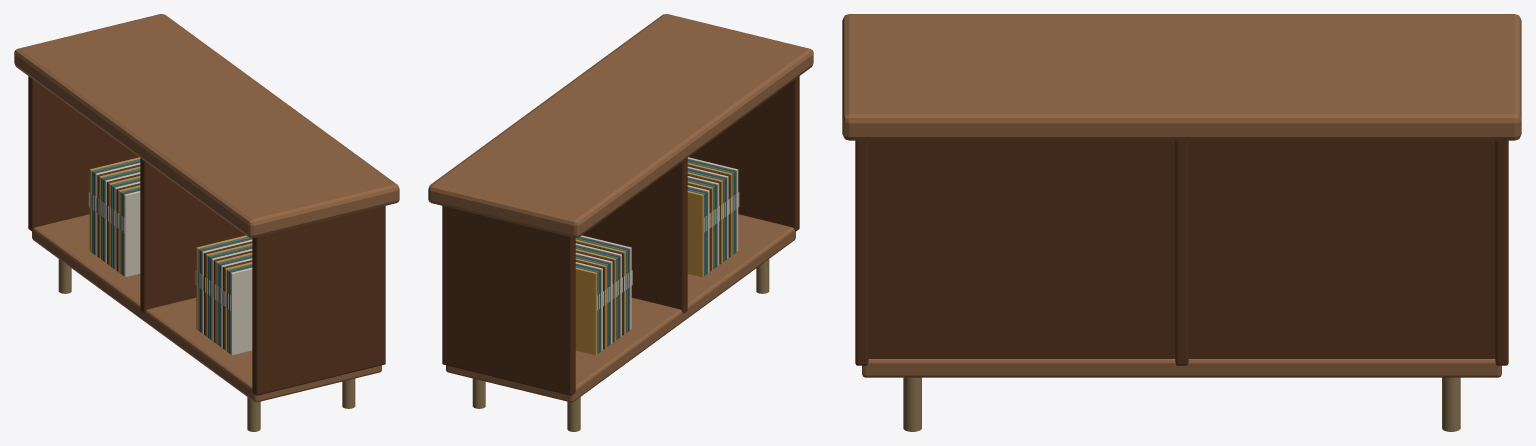
Rendered from vinyl-console.glb.
The picture shows the model from 3 angles, left to right: view 1: azimuth 30°, elevation 25°; view 2: azimuth 150°, elevation 25°; view 3: azimuth 270°, elevation 25°; orthographic projection. The views are drawn at different scales.
Visible parts, largest first — view 1: part::vinyl-console/floating-walnut-counter-001, part::vinyl-console/open-cabinet-divider-003, part::vinyl-console/lower-record-shelf-001, part::vinyl-console/open-cabinet-divider-001, part::vinyl-console/open-cabinet-divider-002, part::vinyl-console/individual-record-sleeve-038, part::vinyl-console/individual-record-sleeve-019, part::vinyl-console/console-brass-foot-004, part::vinyl-console/console-brass-foot-002, part::vinyl-console/console-brass-foot-003; view 2: part::vinyl-console/floating-walnut-counter-001, part::vinyl-console/open-cabinet-divider-001, part::vinyl-console/lower-record-shelf-001, part::vinyl-console/open-cabinet-divider-003, part::vinyl-console/open-cabinet-divider-002, part::vinyl-console/individual-record-sleeve-001, part::vinyl-console/individual-record-sleeve-020, part::vinyl-console/console-brass-foot-002, part::vinyl-console/console-brass-foot-004, part::vinyl-console/console-brass-foot-001; view 3: part::vinyl-console/cabinet-back-001, part::vinyl-console/floating-walnut-counter-001, part::vinyl-console/lower-record-shelf-001, part::vinyl-console/open-cabinet-divider-002, part::vinyl-console/open-cabinet-divider-001, part::vinyl-console/open-cabinet-divider-003, part::vinyl-console/console-brass-foot-001, part::vinyl-console/console-brass-foot-003.
Boxes of the visible parts, left/top/right/bottom form: part::vinyl-console/floating-walnut-counter-001: left=14, top=14, right=399, bottom=237; part::vinyl-console/open-cabinet-divider-003: left=252, top=206, right=385, bottom=395; part::vinyl-console/lower-record-shelf-001: left=32, top=214, right=381, bottom=402; part::vinyl-console/open-cabinet-divider-001: left=28, top=76, right=138, bottom=231; part::vinyl-console/open-cabinet-divider-002: left=140, top=158, right=245, bottom=313; part::vinyl-console/individual-record-sleeve-038: left=230, top=267, right=252, bottom=355; part::vinyl-console/individual-record-sleeve-019: left=124, top=191, right=140, bottom=277; part::vinyl-console/console-brass-foot-004: left=247, top=397, right=260, bottom=431; part::vinyl-console/console-brass-foot-002: left=58, top=259, right=71, bottom=293; part::vinyl-console/console-brass-foot-003: left=342, top=378, right=355, bottom=408; part::vinyl-console/floating-walnut-counter-001: left=428, top=14, right=813, bottom=237; part::vinyl-console/open-cabinet-divider-001: left=442, top=206, right=575, bottom=395; part::vinyl-console/lower-record-shelf-001: left=446, top=214, right=795, bottom=402; part::vinyl-console/open-cabinet-divider-003: left=689, top=76, right=799, bottom=231; part::vinyl-console/open-cabinet-divider-002: left=582, top=158, right=687, bottom=313; part::vinyl-console/individual-record-sleeve-001: left=575, top=267, right=597, bottom=355; part::vinyl-console/individual-record-sleeve-020: left=687, top=191, right=703, bottom=277; part::vinyl-console/console-brass-foot-002: left=567, top=397, right=580, bottom=431; part::vinyl-console/console-brass-foot-004: left=756, top=259, right=769, bottom=293; part::vinyl-console/console-brass-foot-001: left=472, top=378, right=485, bottom=408; part::vinyl-console/cabinet-back-001: left=868, top=140, right=1495, bottom=358; part::vinyl-console/floating-walnut-counter-001: left=842, top=14, right=1521, bottom=140; part::vinyl-console/lower-record-shelf-001: left=862, top=359, right=1501, bottom=377; part::vinyl-console/open-cabinet-divider-002: left=1175, top=140, right=1188, bottom=365; part::vinyl-console/open-cabinet-divider-001: left=1495, top=140, right=1508, bottom=365; part::vinyl-console/open-cabinet-divider-003: left=855, top=140, right=868, bottom=365; part::vinyl-console/console-brass-foot-001: left=1442, top=377, right=1460, bottom=431; part::vinyl-console/console-brass-foot-003: left=903, top=377, right=921, bottom=431.
Bounding box in the file's own units: 0.64 × 0.9355 × 1.74.
